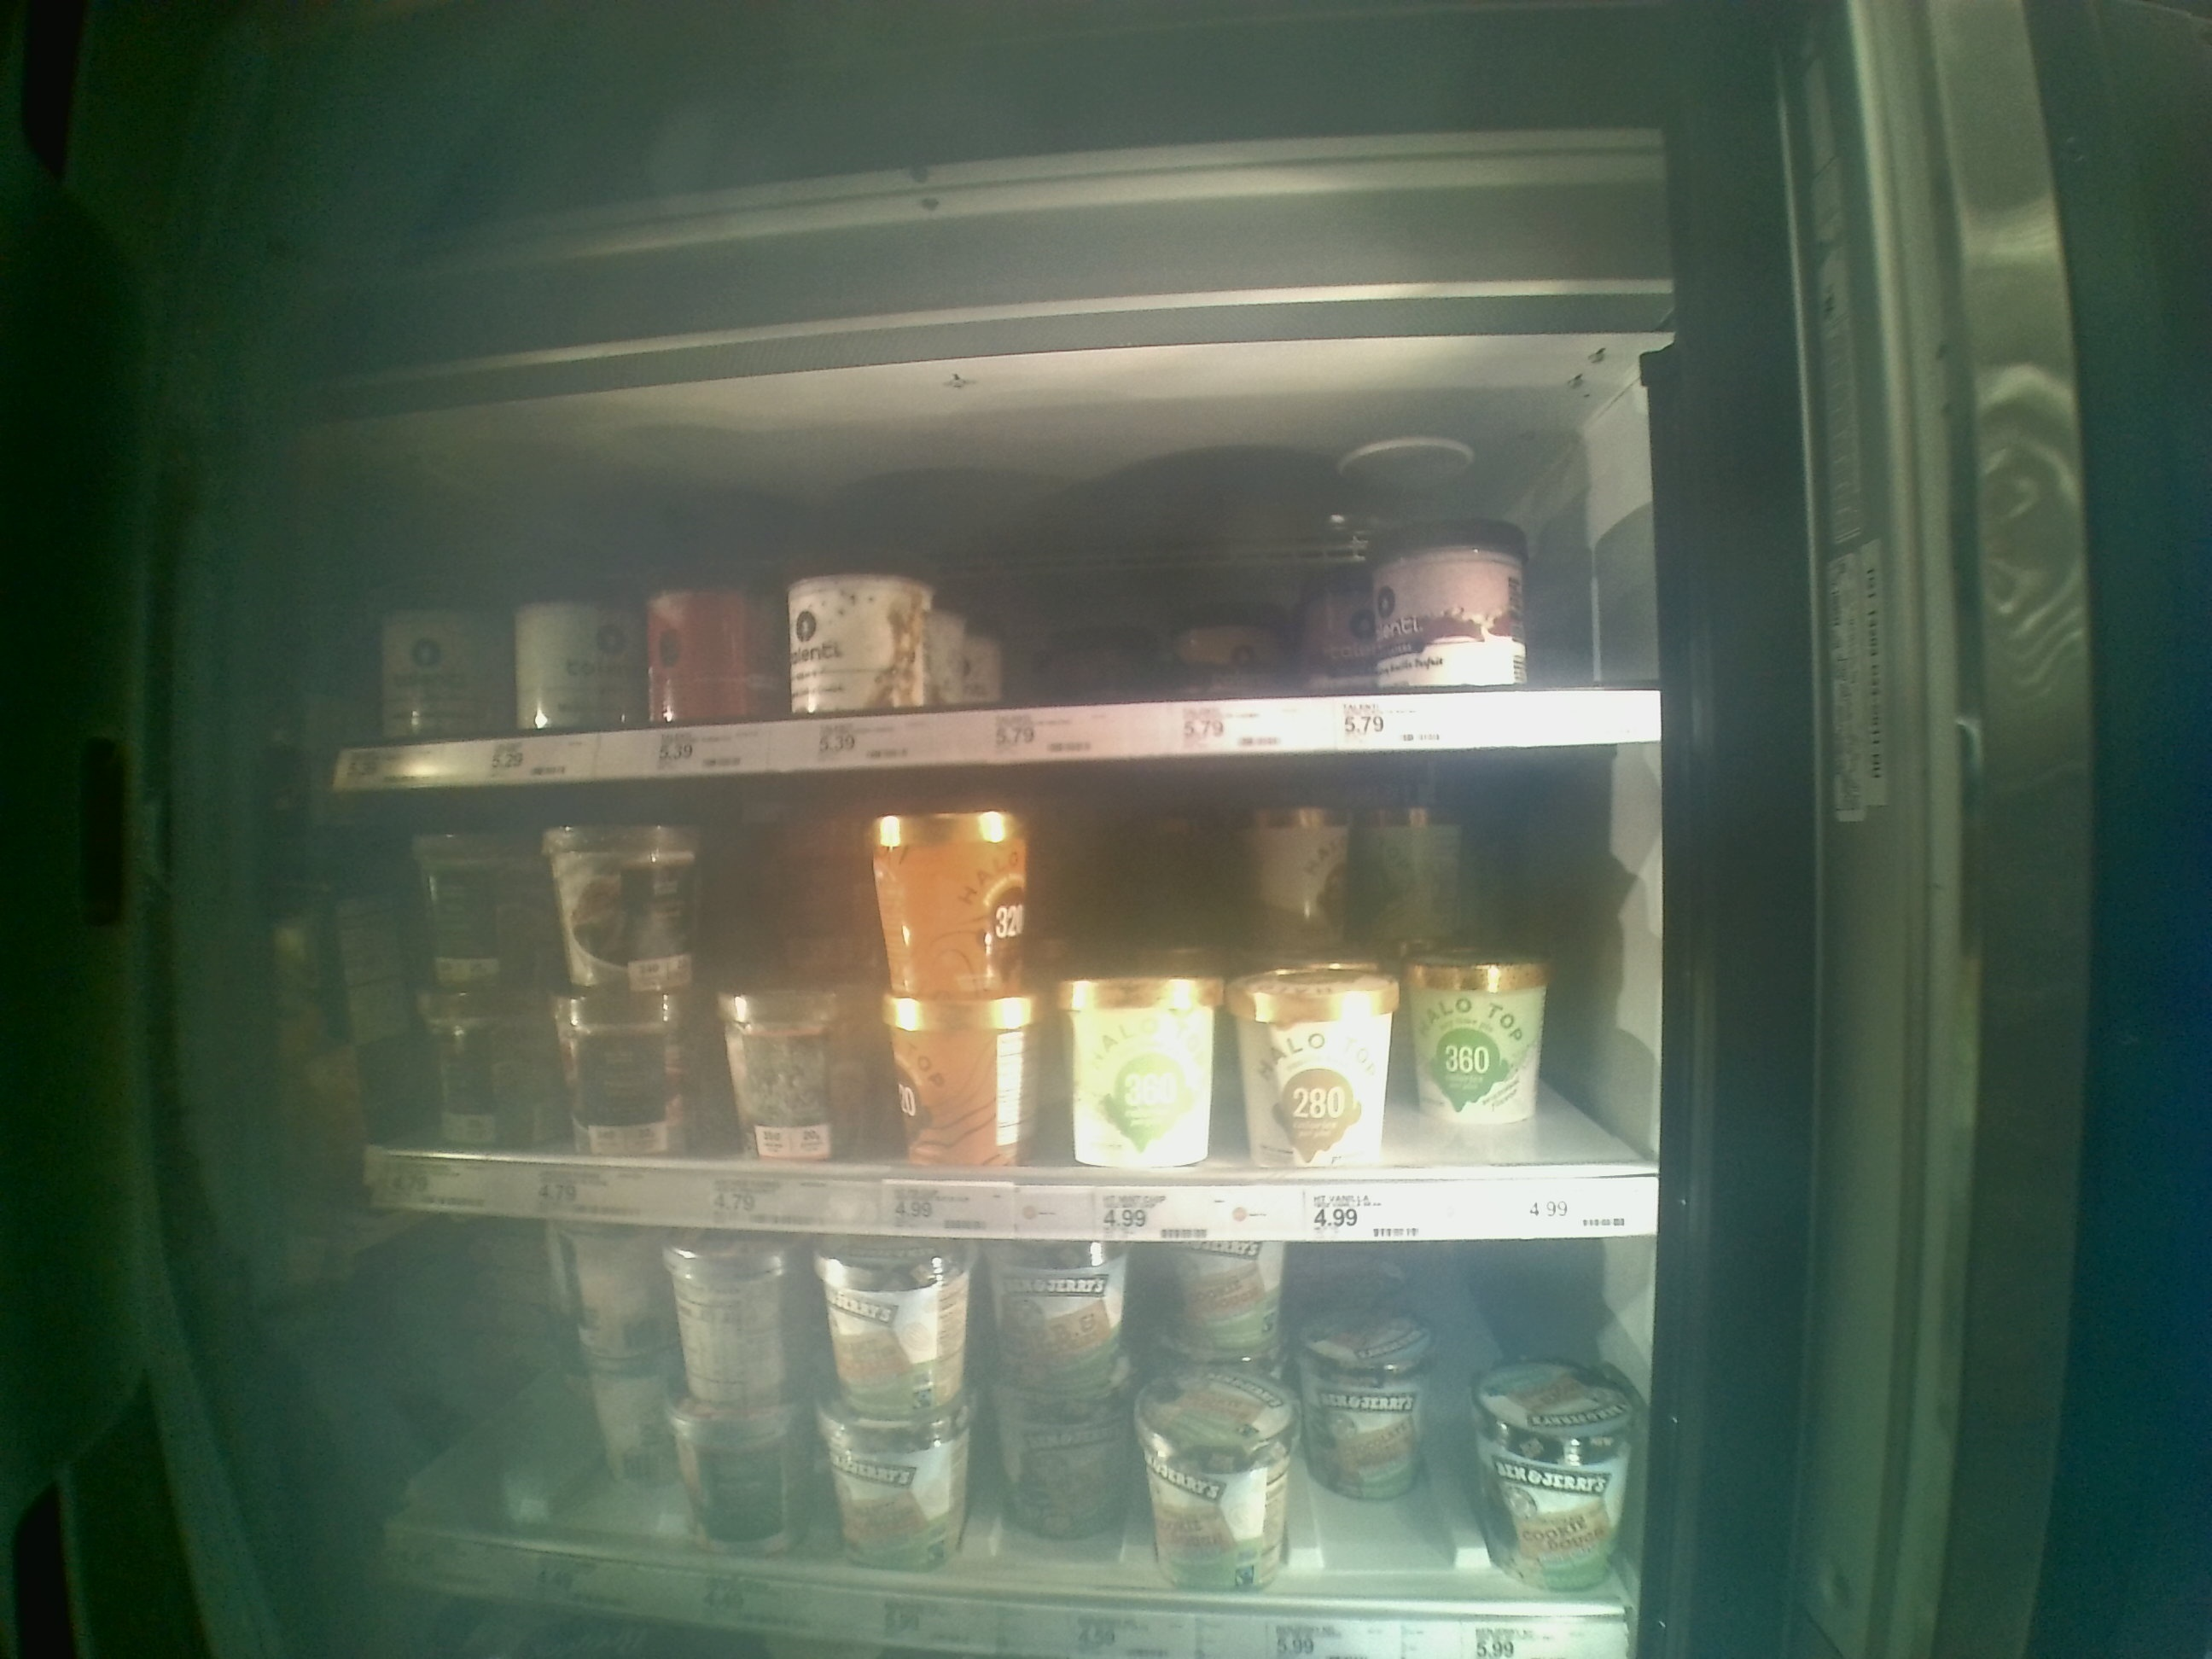ice-cream-shelf: (310, 763, 1662, 1251), (310, 404, 1651, 763)
